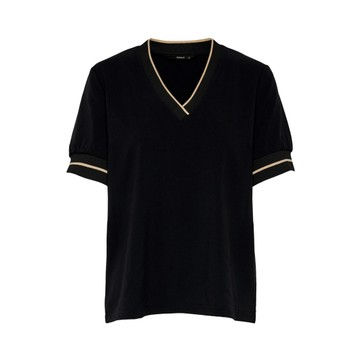C_T-shirt: (67, 38, 295, 321)
